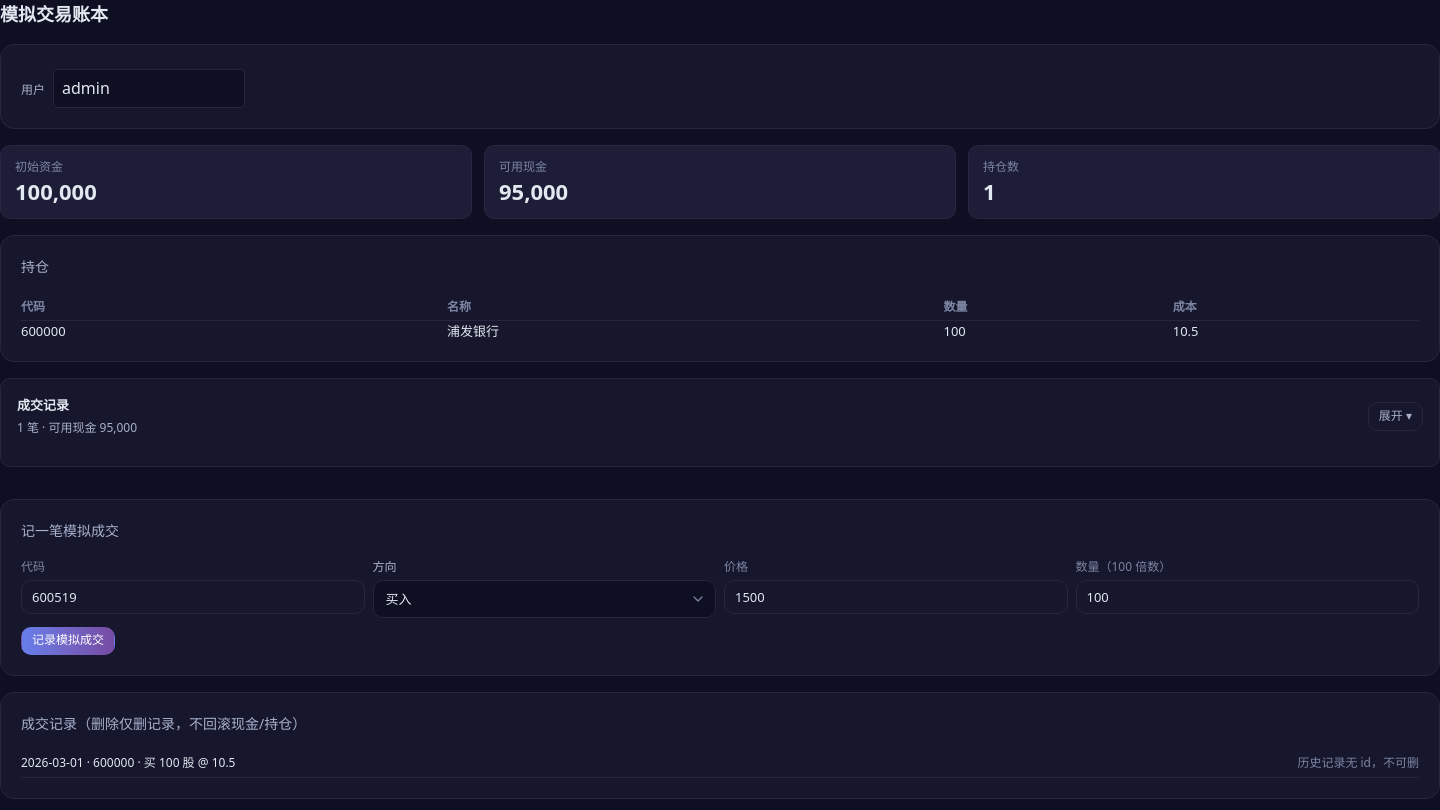
Test case: PaperTrades 四态 › ok 渲染资金 / 持仓数 / 持仓表 / 成交表（数值本地化，null→—）
Expected: the heading "模拟交易账本" is shown, [0,2,108,26]
Expected: the text "100,000" is shown, [15,176,97,206]
Click the button "展开 ▾" at (1395, 417), box [1368,402,1423,431]
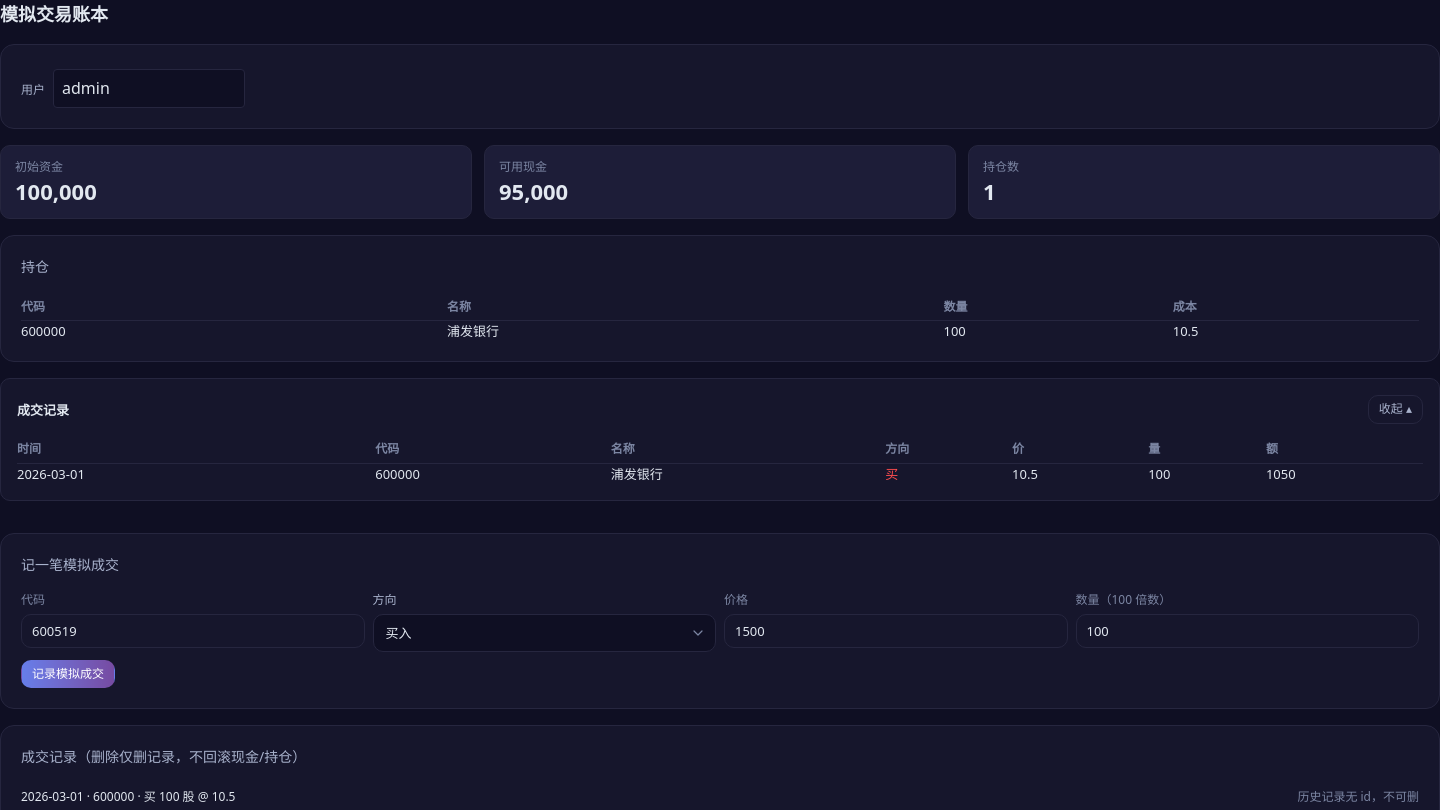
Result: the text "买" is shown at [885,463,1012,484]
